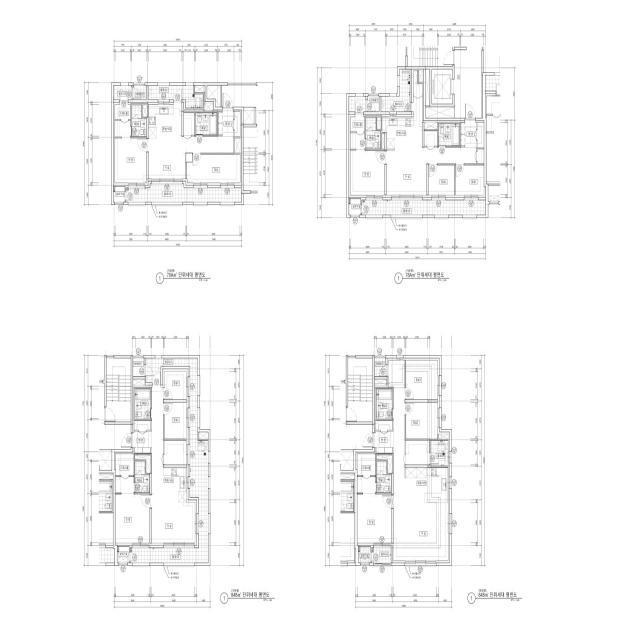space_balconi: (130, 358, 208, 563), (126, 184, 242, 202), (362, 200, 486, 215), (381, 69, 410, 112), (148, 86, 203, 108), (430, 441, 448, 466), (372, 546, 391, 563), (113, 86, 131, 100)
space_bedroom: (116, 494, 150, 543), (357, 494, 391, 543), (350, 150, 385, 195), (187, 155, 240, 183), (115, 138, 146, 183), (406, 360, 438, 400), (406, 403, 438, 439), (455, 165, 484, 195), (164, 403, 186, 439), (429, 165, 454, 195), (164, 371, 186, 400)
space_dressroom: (357, 454, 376, 493), (115, 454, 134, 493), (350, 114, 365, 149), (115, 102, 130, 137)
space_elevator: (432, 70, 453, 104)
space_elevator_hall: (455, 50, 482, 118)
space_front: (218, 109, 240, 137), (132, 432, 152, 454), (461, 119, 476, 147), (374, 432, 393, 454)
space_kitchen: (382, 71, 422, 148), (405, 468, 448, 503), (148, 102, 182, 137), (163, 468, 186, 503)
space_living_room: (389, 360, 448, 561), (152, 387, 195, 543), (387, 147, 476, 195), (148, 137, 233, 179)
space_other: (406, 441, 429, 465), (164, 440, 186, 465), (349, 96, 379, 112), (425, 107, 454, 118), (135, 455, 151, 473), (207, 86, 220, 107), (377, 455, 392, 473), (184, 113, 194, 135), (375, 358, 387, 376), (133, 358, 144, 376), (424, 131, 437, 146), (425, 69, 430, 106), (133, 86, 146, 100), (243, 108, 254, 124), (477, 123, 484, 148), (134, 420, 151, 430), (376, 420, 392, 430), (477, 149, 484, 164), (424, 122, 437, 130), (235, 138, 240, 153), (133, 379, 145, 385), (204, 103, 213, 111), (375, 379, 387, 385), (195, 86, 205, 93), (199, 432, 208, 439), (377, 117, 381, 129), (143, 105, 147, 117), (382, 134, 385, 149), (439, 434, 448, 439), (419, 71, 422, 82)
space_outdoor_room: (358, 547, 371, 563), (117, 547, 129, 563), (113, 187, 125, 202)
space_staircase: (106, 358, 131, 422), (348, 358, 372, 422)
space_toilet: (438, 124, 460, 146), (195, 113, 217, 135), (376, 389, 392, 419), (135, 461, 150, 493), (366, 117, 381, 149), (135, 389, 151, 419), (132, 105, 146, 137), (377, 461, 391, 493)
